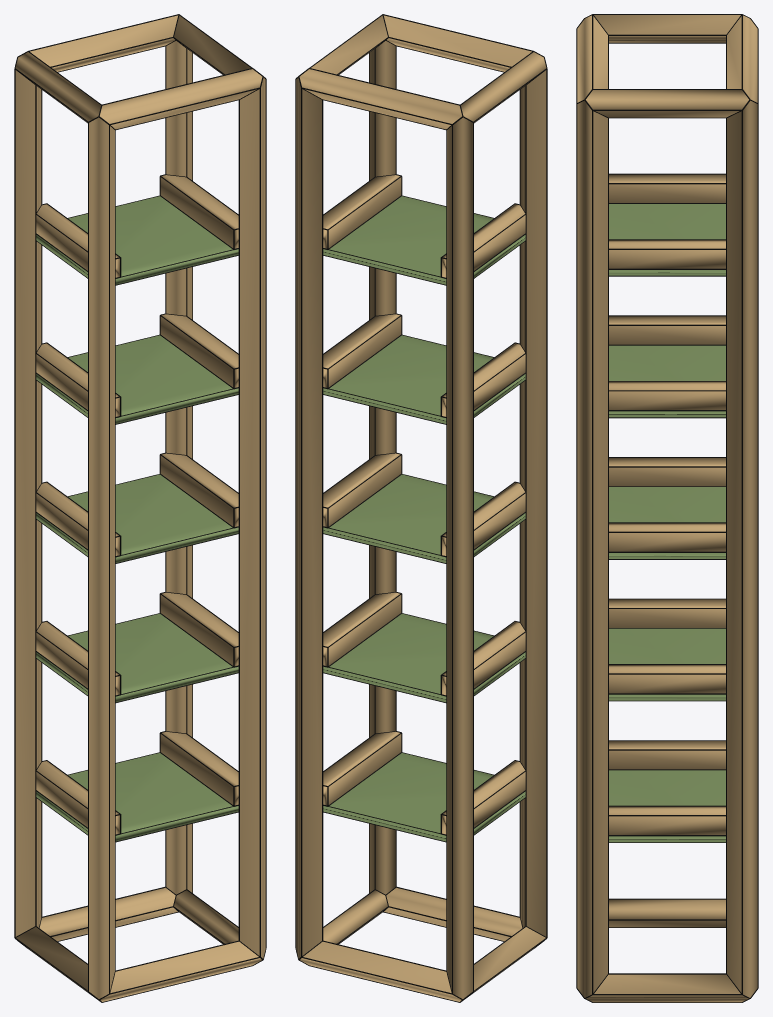
Rendered from bibliotheque-grande.glb.
3 renders of one model, left to right at view 1: azimuth 30°, elevation 25°; view 2: azimuth 150°, elevation 25°; view 3: azimuth 270°, elevation 25°, orthographic.
Parts seen in each view (by area): view 1: arete-Z2, arete-Z0, arete-Z1, arete-Z3, tablette-plate-mod-1, tablette-plate-mod-2, tablette-plate-mod-3, tablette-plate-mod-0, tablette-plate-mod-4, arete-wire-Z1, arete-wire-Z2, arete-X2 (+22 smaller); view 2: arete-Z0, arete-Z2, arete-Z3, arete-Z1, tablette-plate-mod-1, tablette-plate-mod-2, tablette-plate-mod-3, tablette-plate-mod-0, tablette-plate-mod-4, arete-wire-Z3, arete-wire-Z0, arete-X3 (+22 smaller); view 3: arete-Z1, arete-Z3, tablette-plate-mod-0, tablette-plate-mod-1, tablette-plate-mod-3, tablette-plate-mod-2, tablette-plate-mod-4, arete-wire-Z1, arete-wire-Z3, arete-Y3, arete-Y1, arete-Y2 (+28 smaller).
Part boxes in pixels (x1=…): arete-Z2: x1=15, y1=70, x2=41, y2=936; arete-Z0: x1=89, y1=117, x2=114, y2=998; arete-Z1: x1=240, y1=77, x2=265, y2=958; arete-Z3: x1=166, y1=41, x2=192, y2=894; tablette-plate-mod-1: x1=36, y1=613, x2=238, y2=702; tablette-plate-mod-2: x1=36, y1=474, x2=238, y2=562; tablette-plate-mod-3: x1=36, y1=335, x2=238, y2=423; tablette-plate-mod-0: x1=36, y1=753, x2=238, y2=841; tablette-plate-mod-4: x1=36, y1=196, x2=238, y2=284; arete-wire-Z1: x1=238, y1=76, x2=266, y2=957; arete-wire-Z2: x1=14, y1=69, x2=42, y2=937; arete-X2: x1=100, y1=69, x2=262, y2=129; arete-Z0: x1=520, y1=70, x2=546, y2=936; arete-Z2: x1=447, y1=117, x2=472, y2=998; arete-Z3: x1=296, y1=77, x2=321, y2=958; arete-Z1: x1=369, y1=41, x2=395, y2=894; tablette-plate-mod-1: x1=323, y1=613, x2=525, y2=702; tablette-plate-mod-2: x1=323, y1=474, x2=525, y2=562; tablette-plate-mod-3: x1=323, y1=335, x2=525, y2=423; tablette-plate-mod-0: x1=323, y1=753, x2=525, y2=841; tablette-plate-mod-4: x1=323, y1=196, x2=525, y2=284; arete-wire-Z3: x1=295, y1=79, x2=323, y2=957; arete-wire-Z0: x1=519, y1=57, x2=547, y2=937; arete-X3: x1=299, y1=69, x2=461, y2=129; arete-Z1: x1=577, y1=100, x2=607, y2=997; arete-Z3: x1=727, y1=100, x2=757, y2=997; tablette-plate-mod-0: x1=609, y1=770, x2=725, y2=842; tablette-plate-mod-1: x1=609, y1=628, x2=725, y2=700; tablette-plate-mod-3: x1=609, y1=345, x2=725, y2=417; tablette-plate-mod-2: x1=609, y1=487, x2=725, y2=558; tablette-plate-mod-4: x1=609, y1=204, x2=725, y2=275; arete-wire-Z1: x1=576, y1=100, x2=608, y2=994; arete-wire-Z3: x1=726, y1=104, x2=758, y2=994; arete-Y3: x1=586, y1=90, x2=748, y2=117; arete-Y1: x1=586, y1=974, x2=748, y2=1002; arete-Y2: x1=594, y1=15, x2=740, y2=42.
Bounding box in the file's own units: 0.3809 × 1.83 × 0.3309.
